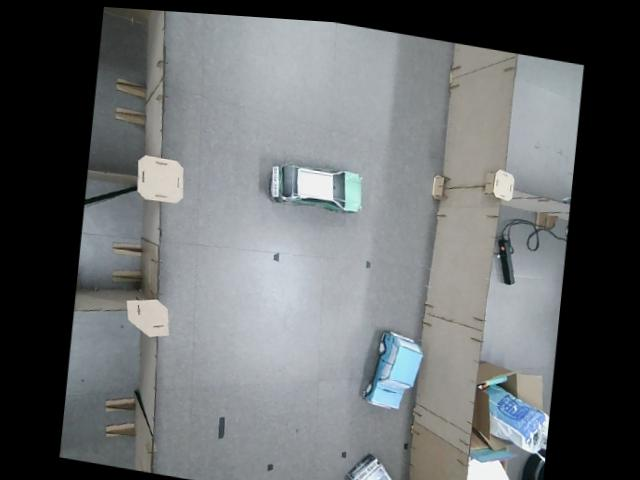car: (264, 155, 367, 219), (358, 323, 427, 417), (340, 445, 424, 480)
